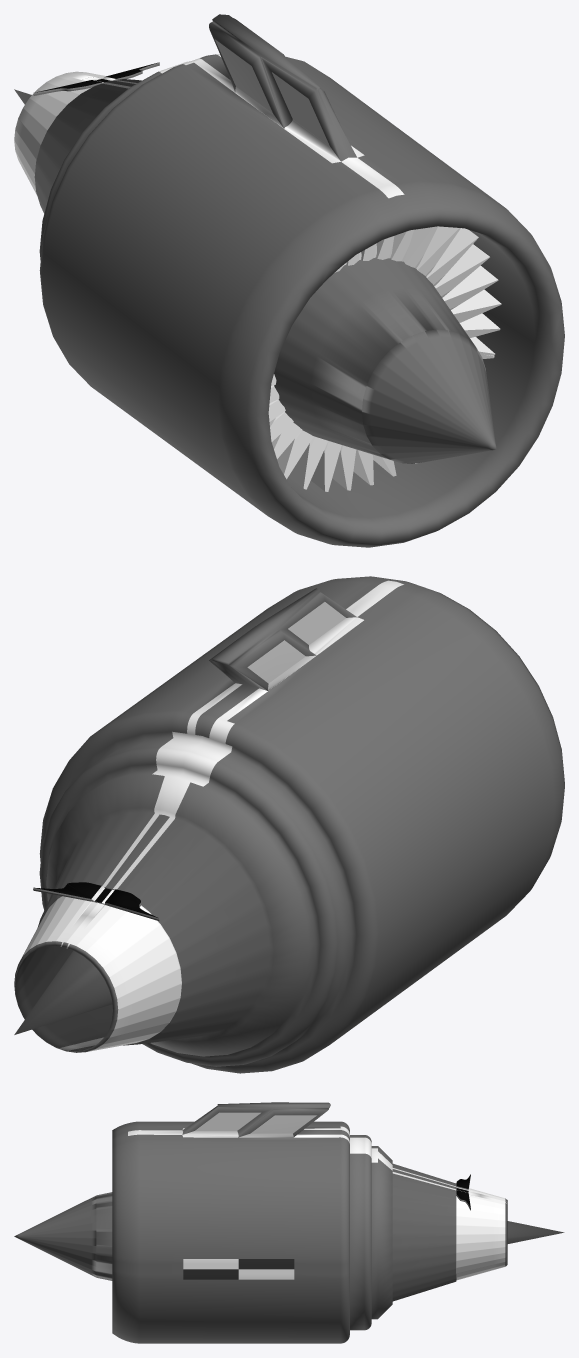
The model's file is motor.glb.
3 views of the same model, one above another, from view 1: azimuth 30°, elevation 25°; view 2: azimuth 150°, elevation 25°; view 3: azimuth 270°, elevation 25° (orthographic). The views are drawn at different scales.
Visible parts, largest first — view 1: Motor, Cube.001; view 2: Motor; view 3: Motor.
Boxes of the visible parts, <box> form: Motor: <box>14,14,564,547</box>; Cube.001: <box>268,226,501,491</box>; Motor: <box>14,576,564,1073</box>; Motor: <box>14,1102,564,1343</box>.
Size of the model in its own units: 2 by 2.28 by 4.96.
7 materials, 1 textured.
